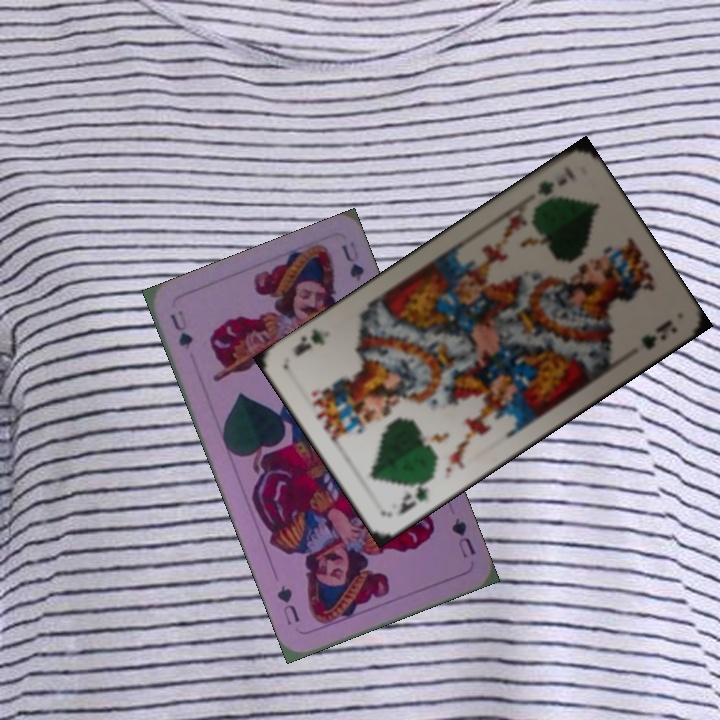GK: (394, 473, 434, 518), (533, 173, 571, 199)
GU: (447, 513, 479, 561), (165, 306, 195, 353)
